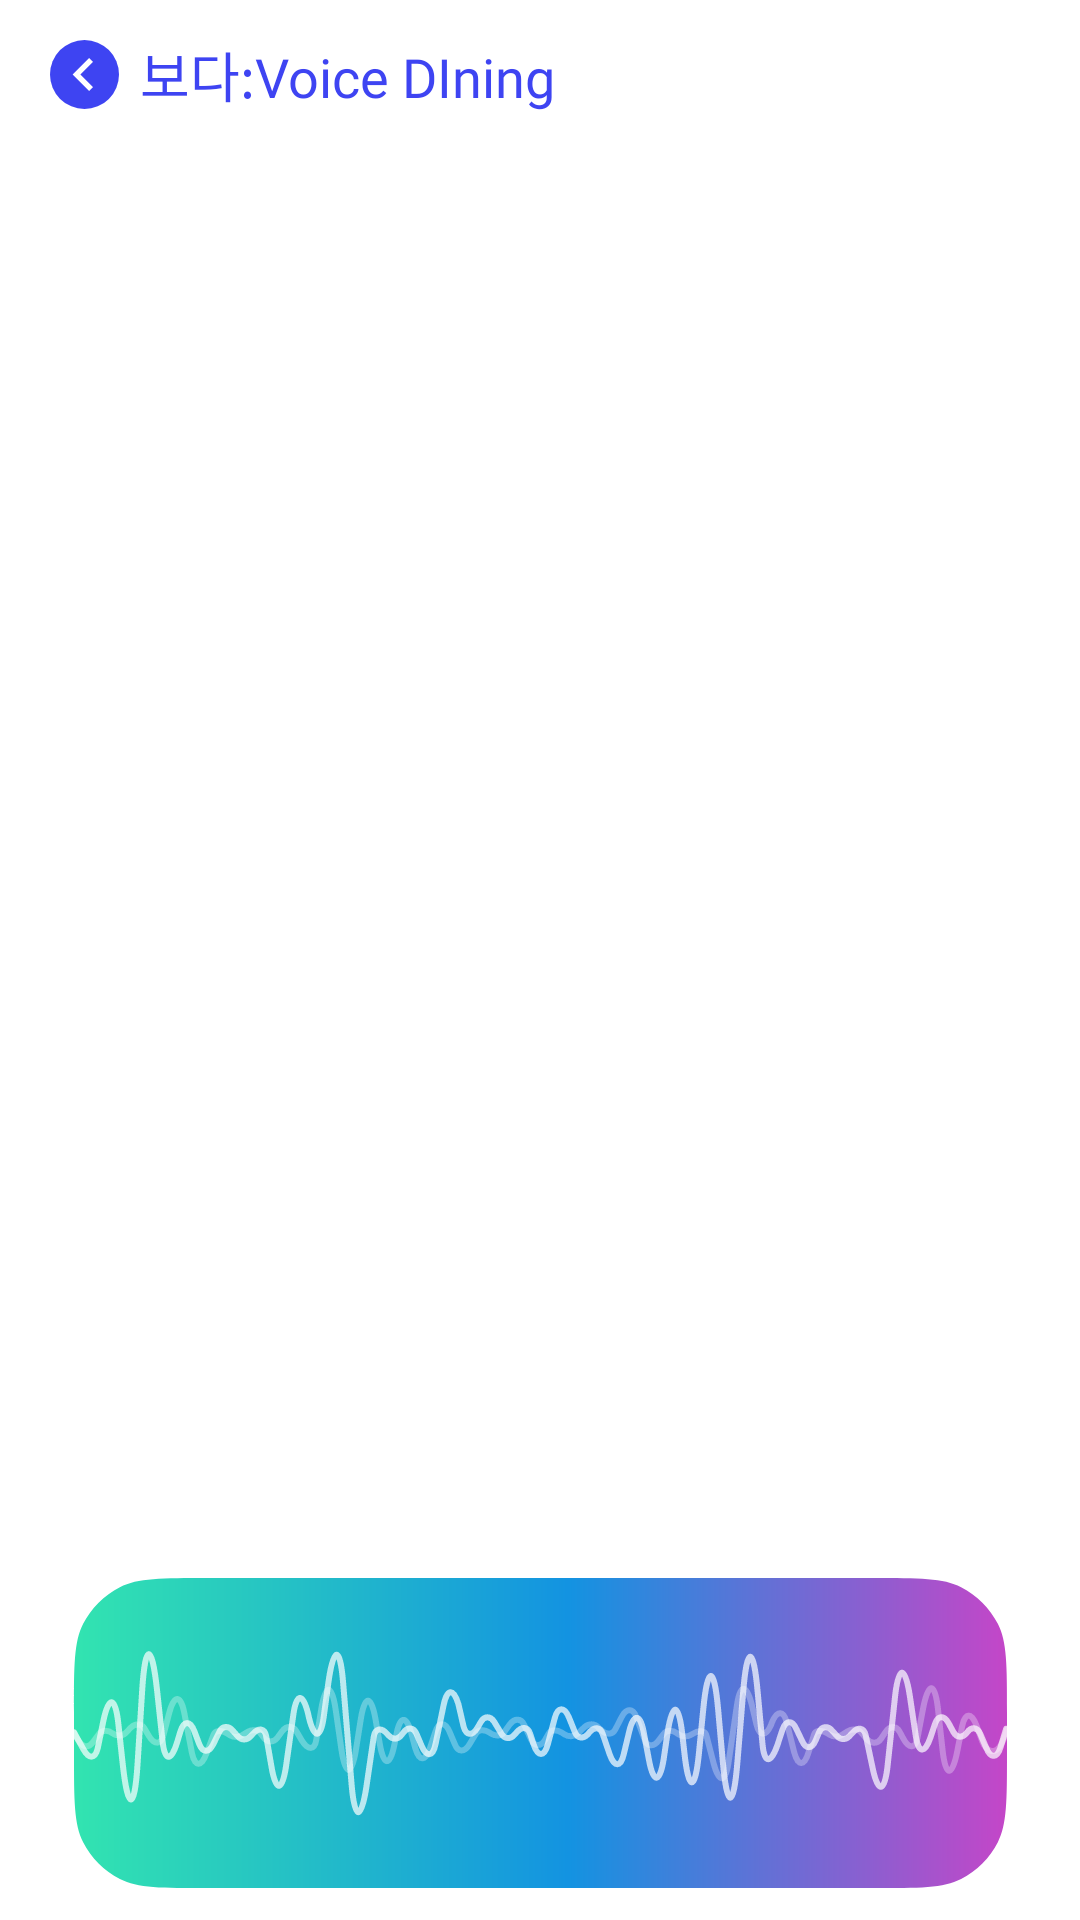

Icon click points for this 1080px x 1920px phone screenshot, format (x,y):
back: (84,74)
